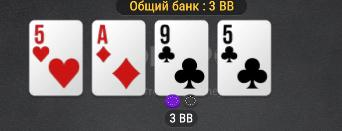5c: (219, 22, 270, 95)
5h: (30, 20, 82, 95)
9c: (155, 22, 208, 94)
Ad: (93, 21, 145, 96)
